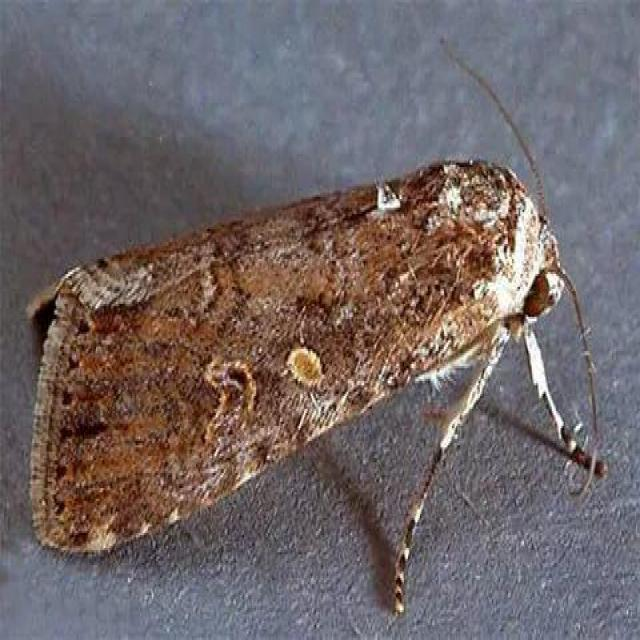BeetArmyWorm-Adult-: (18, 107, 600, 575)
